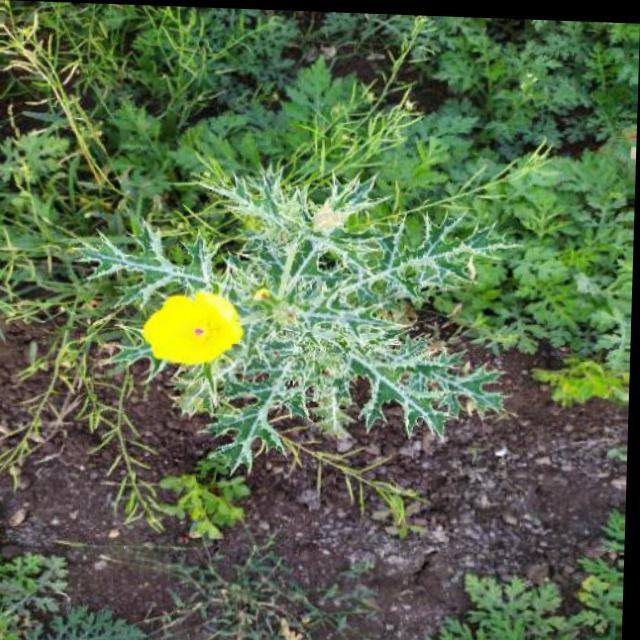weed: (0, 5, 625, 505)
